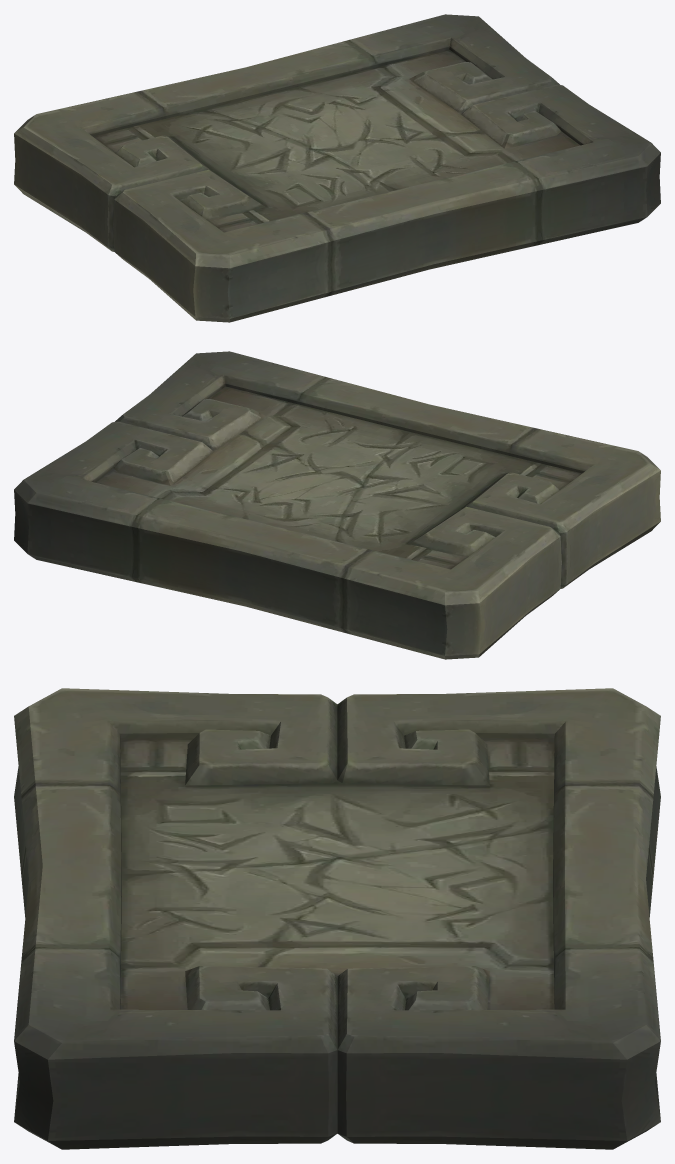
3 views of the same model, one above another, from view 1: azimuth 30°, elevation 25°; view 2: azimuth 150°, elevation 25°; view 3: azimuth 270°, elevation 25° (orthographic). The views are drawn at different scales.
Bounding box in the file's own units: 1.82 × 0.2499 × 1.37.
Materials: 1 (1 with a texture image).
